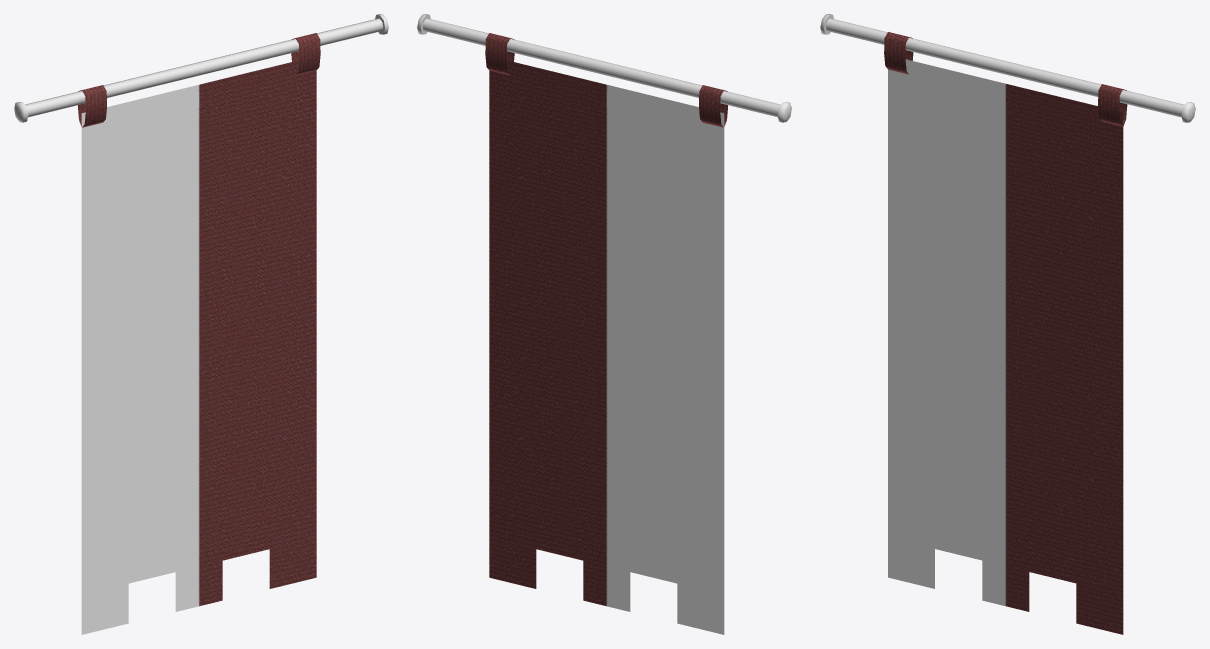
File: wall_banner.fbx
3 views of the same model, side by side, from view 1: azimuth 30°, elevation 25°; view 2: azimuth 150°, elevation 25°; view 3: azimuth 330°, elevation 25° (orthographic).
Parts seen in each view (by area): view 1: Muralla3.223; view 2: Muralla3.223; view 3: Muralla3.223.
Part boxes in pixels (x1=…): Muralla3.223: x1=14, y1=14, x2=388, y2=634; Muralla3.223: x1=417, y1=14, x2=791, y2=634; Muralla3.223: x1=820, y1=14, x2=1195, y2=634.
Size of the model in its own units: 48.86 by 69.22 by 2.41.
Materials: 2 (1 with a texture image).
